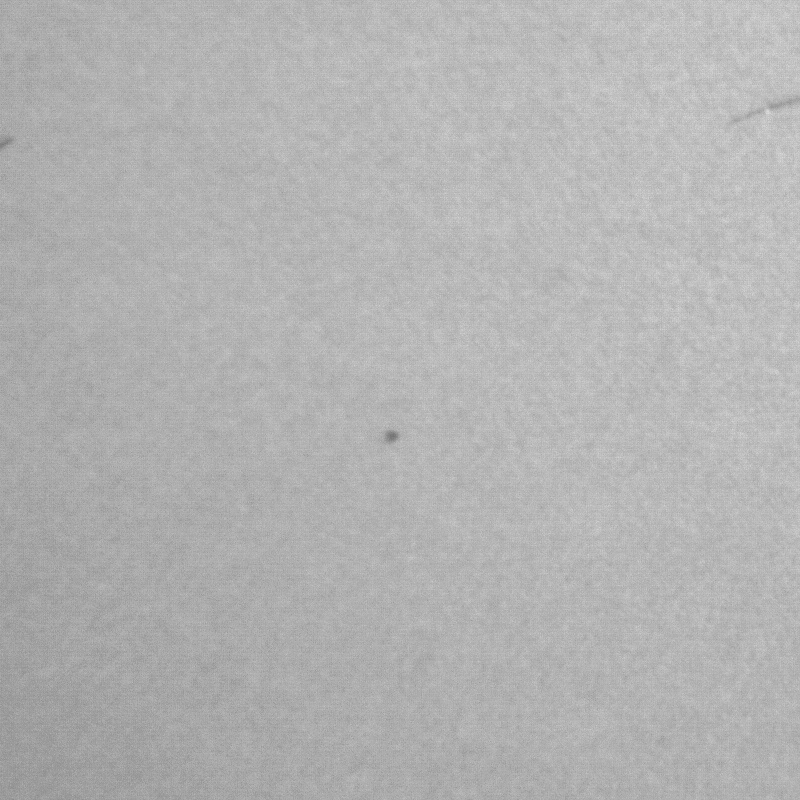defect: (730, 99, 800, 123), (378, 431, 403, 447), (1, 138, 10, 149)
